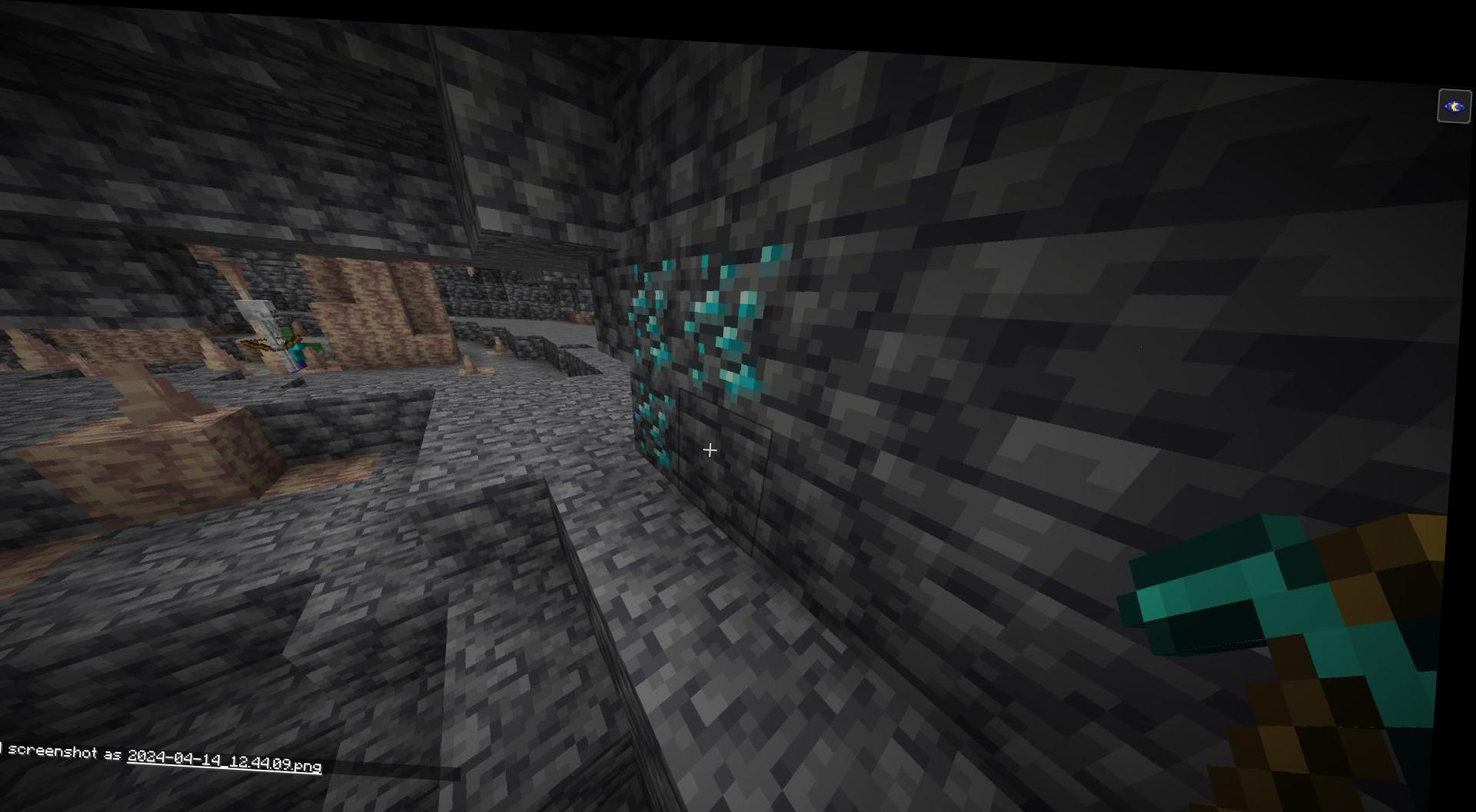diamond ore: (684, 242, 793, 397), (621, 246, 693, 374), (630, 373, 691, 467)
